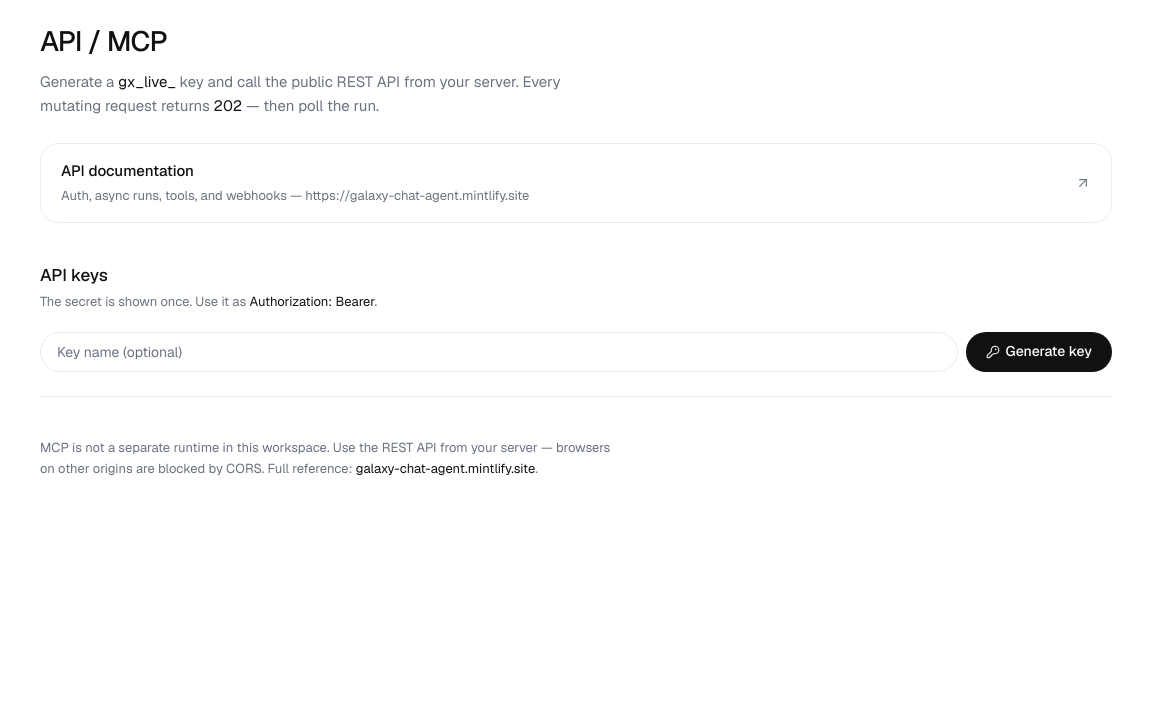
DevelopersBoard › links to the API docs and generates a key
expect the heading "API / MCP" is shown: met, box [40, 20, 167, 62]
Type "Production" into the field labelled "Key name" at x=499, y=352, box [40, 332, 958, 372]
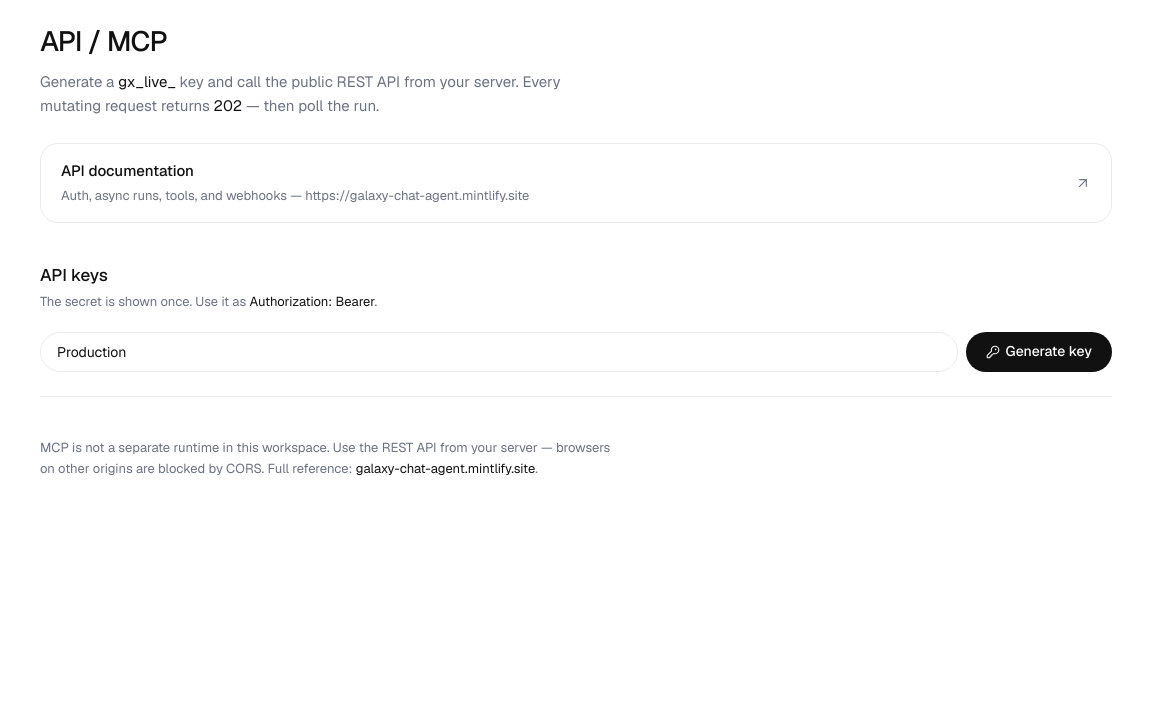
Click the button "Generate key" at x=1039, y=352, box [966, 332, 1112, 372]
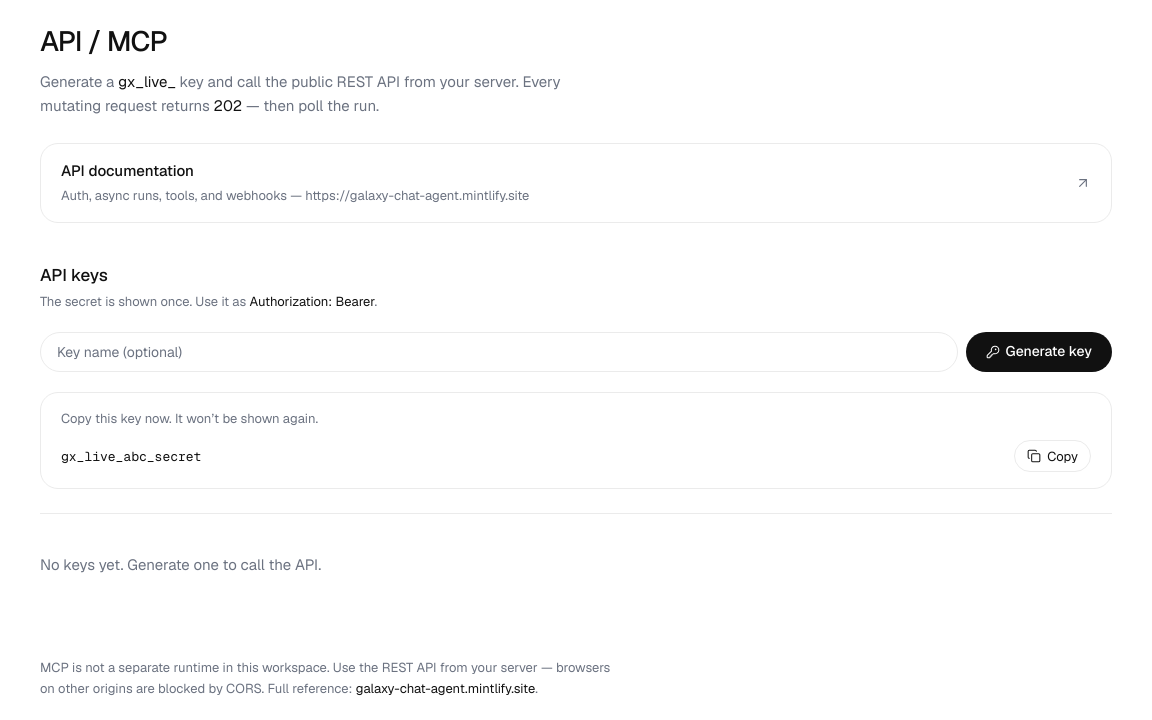
expect the text "gx_live_abc_secret" is shown: met, box [61, 448, 201, 464]
